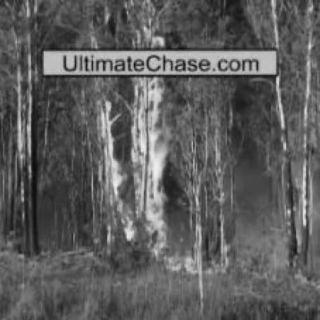Fire: (153, 243, 229, 273)
